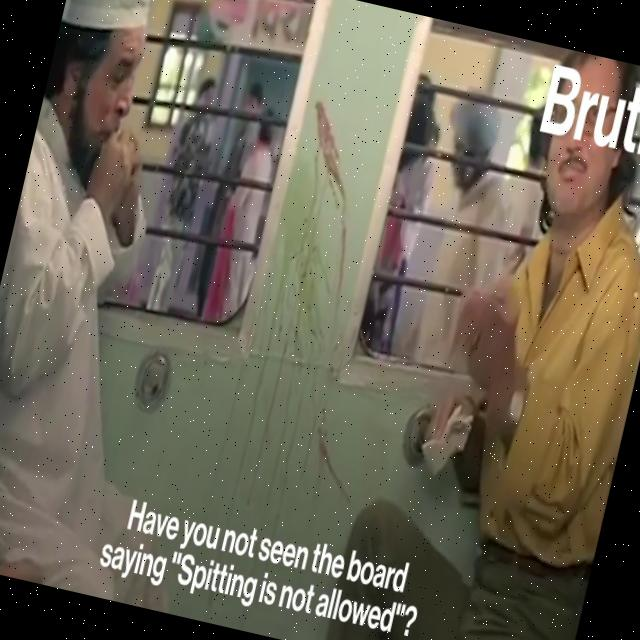spit: (210, 69, 452, 517)
